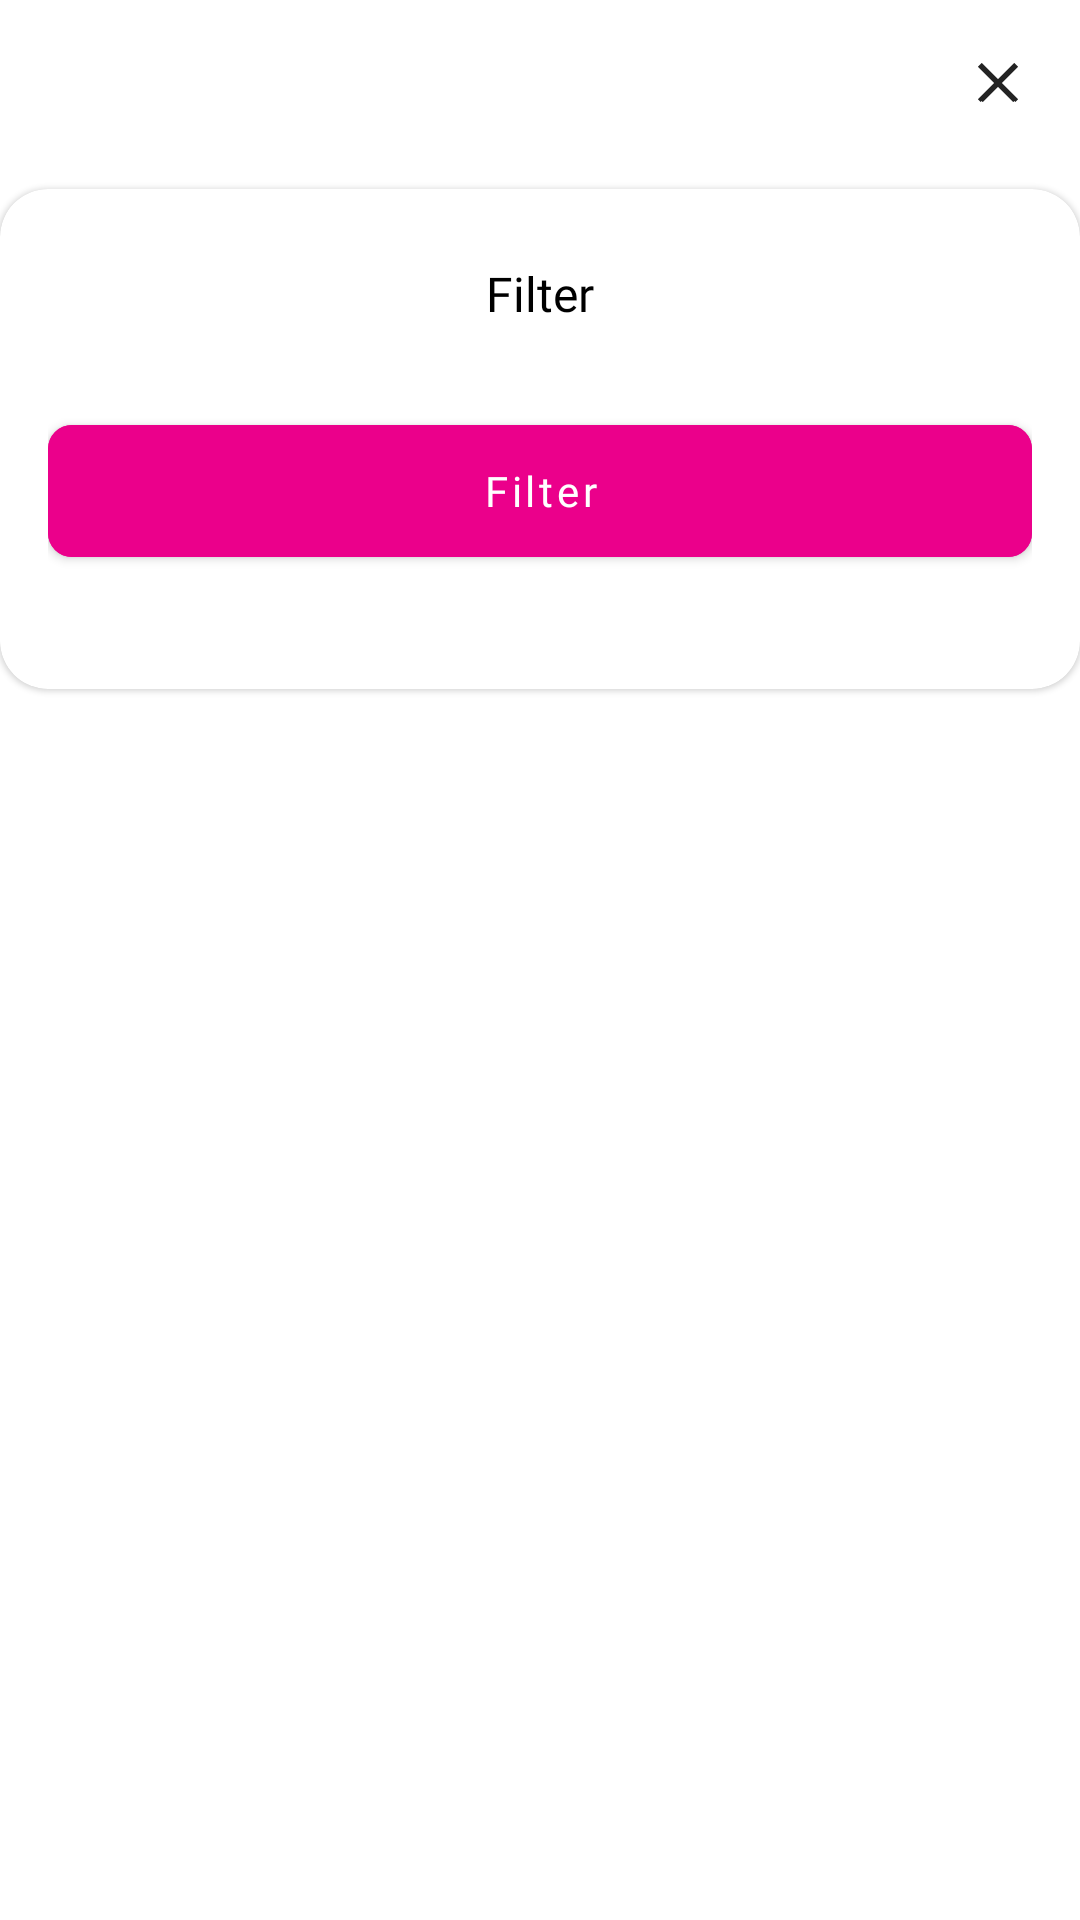

Named icons in this screenshot (1080*1920) and their centers, (x,y):
close: (998,82)
